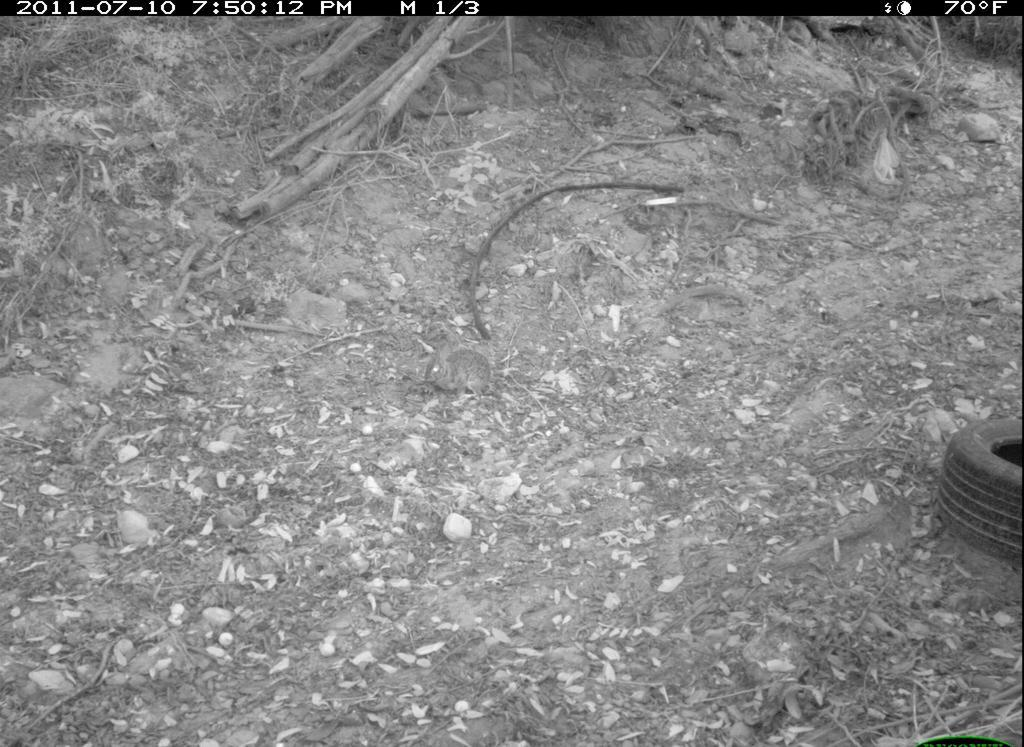rabbit: (419, 315, 500, 417)
